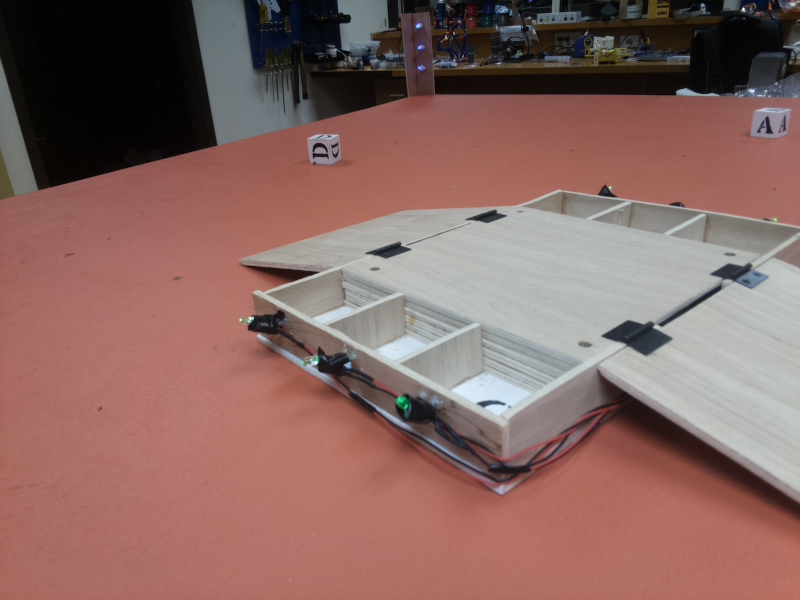blockA: (751, 105, 789, 143)
blockD: (301, 130, 343, 166)
side: (242, 290, 511, 506), (555, 182, 800, 227)
slope: (583, 256, 800, 516), (239, 208, 507, 266)
